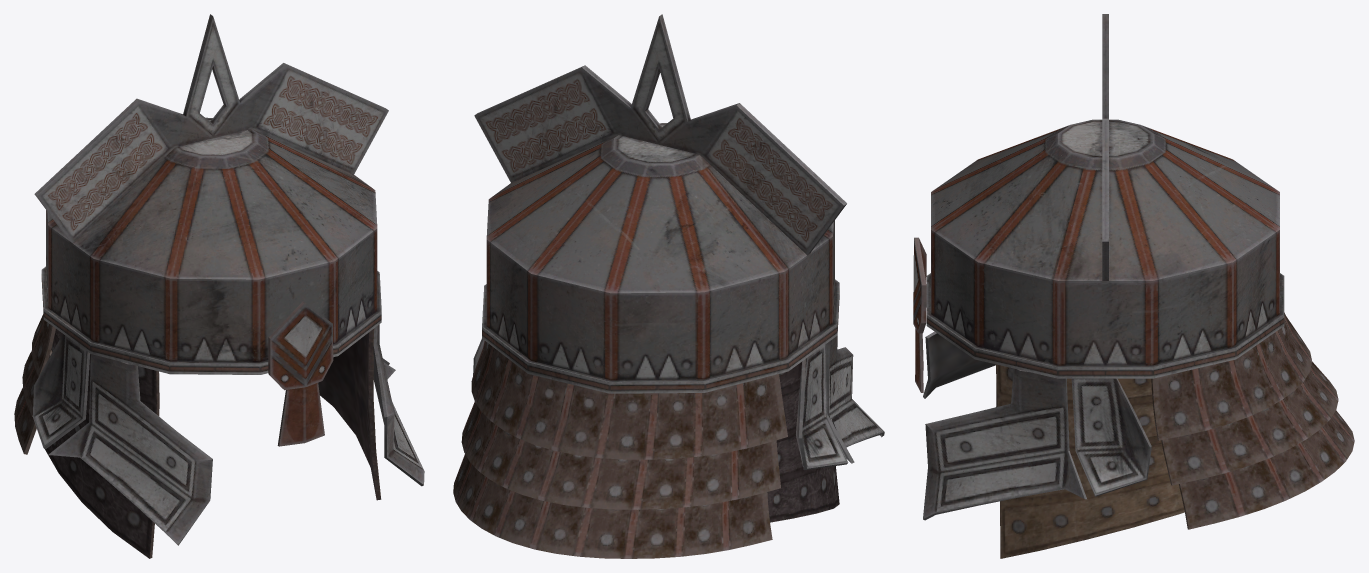
The model's file is sk_dwarf_iron_helmet_heavy_a2.fbx.
3 renders of one model, left to right at view 1: azimuth 30°, elevation 25°; view 2: azimuth 150°, elevation 25°; view 3: azimuth 270°, elevation 25°, orthographic. The views are drawn at different scales.
Visible parts, largest first — view 1: sk_dwarf_iron_helmet_heavy_a2; view 2: sk_dwarf_iron_helmet_heavy_a2; view 3: sk_dwarf_iron_helmet_heavy_a2.
Part boxes in pixels (x1,y1,x2,y2): sk_dwarf_iron_helmet_heavy_a2: [14, 14, 424, 558]; sk_dwarf_iron_helmet_heavy_a2: [453, 14, 884, 558]; sk_dwarf_iron_helmet_heavy_a2: [913, 14, 1354, 558].
Size of the model in its own units: 0.3245 by 0.3455 by 0.4204.
1 material, 1 textured.
